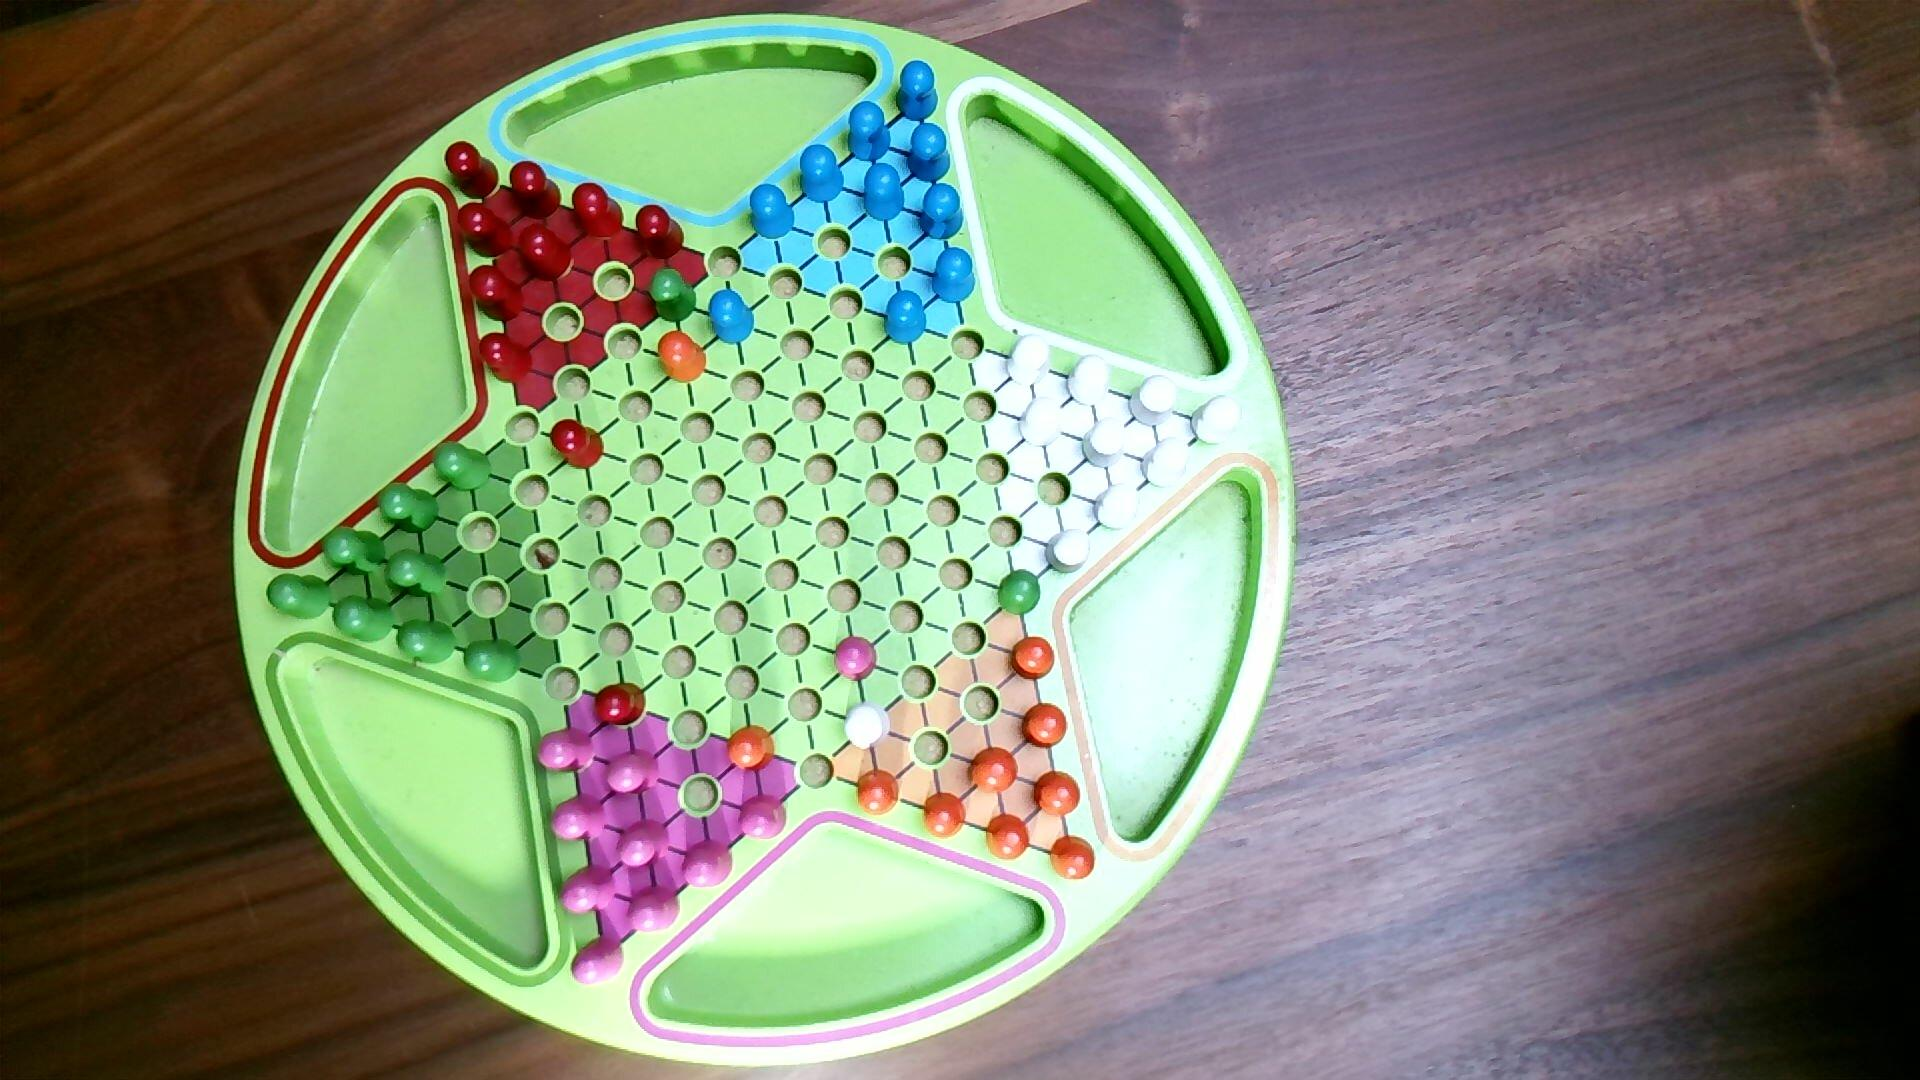B: (905, 120, 953, 185), (916, 182, 967, 243), (800, 142, 847, 206), (847, 100, 893, 164), (895, 59, 942, 123), (707, 287, 756, 347), (931, 247, 978, 306), (862, 162, 907, 224), (750, 185, 796, 243), (884, 287, 928, 347)
G: (375, 480, 442, 538), (320, 525, 389, 579), (430, 439, 493, 493), (385, 547, 450, 600), (265, 572, 334, 621), (332, 593, 397, 644), (396, 618, 459, 667), (647, 266, 699, 324), (463, 637, 524, 686), (997, 567, 1043, 618)
O: (657, 328, 709, 385), (967, 744, 1021, 795), (725, 723, 775, 774), (1033, 769, 1083, 819), (1050, 833, 1098, 884), (1021, 702, 1069, 752), (985, 812, 1033, 862), (1009, 636, 1058, 683), (856, 767, 902, 818), (923, 791, 968, 841)
R: (444, 138, 502, 203), (467, 264, 526, 324), (516, 223, 575, 284), (456, 200, 516, 260), (506, 160, 563, 222), (570, 182, 626, 241), (479, 331, 535, 386), (550, 418, 607, 472), (636, 203, 687, 262), (593, 680, 647, 728)
R2: (556, 862, 618, 916), (549, 793, 609, 845), (615, 819, 673, 872), (603, 748, 663, 798), (535, 727, 597, 775), (570, 934, 626, 986), (680, 837, 736, 890), (626, 884, 683, 934), (737, 793, 789, 843), (833, 636, 880, 684)
W: (1189, 393, 1246, 448), (1139, 435, 1192, 492), (1127, 375, 1182, 429), (1005, 334, 1054, 390), (1092, 481, 1143, 533), (843, 700, 893, 753), (1065, 353, 1113, 409), (1081, 415, 1129, 471), (1018, 394, 1065, 448), (1044, 527, 1093, 576)
